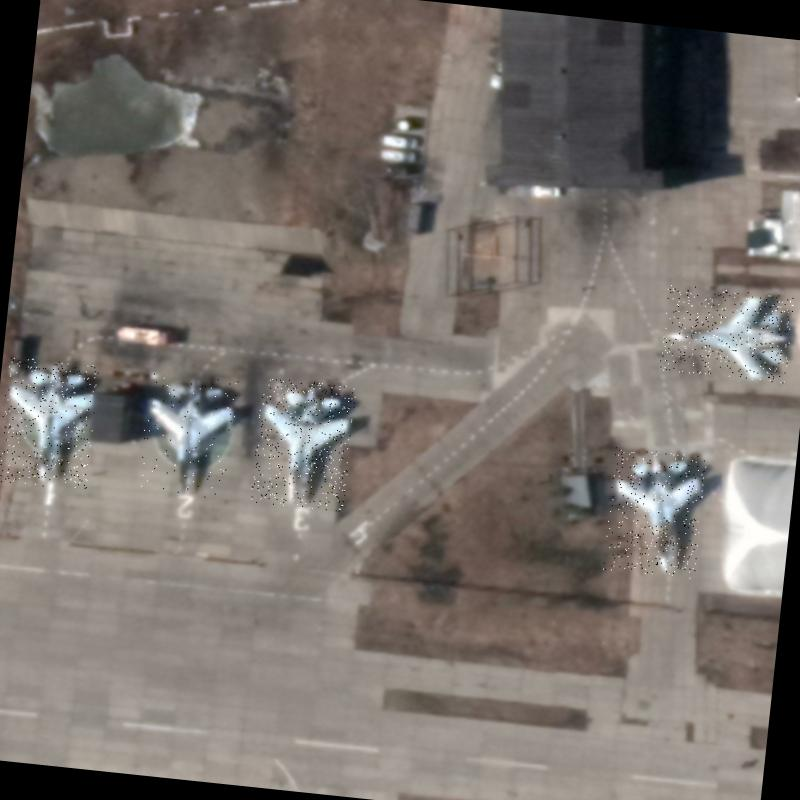A1: (249, 377, 356, 512), (602, 446, 706, 578), (659, 283, 794, 383), (0, 355, 99, 490), (137, 372, 238, 500)
